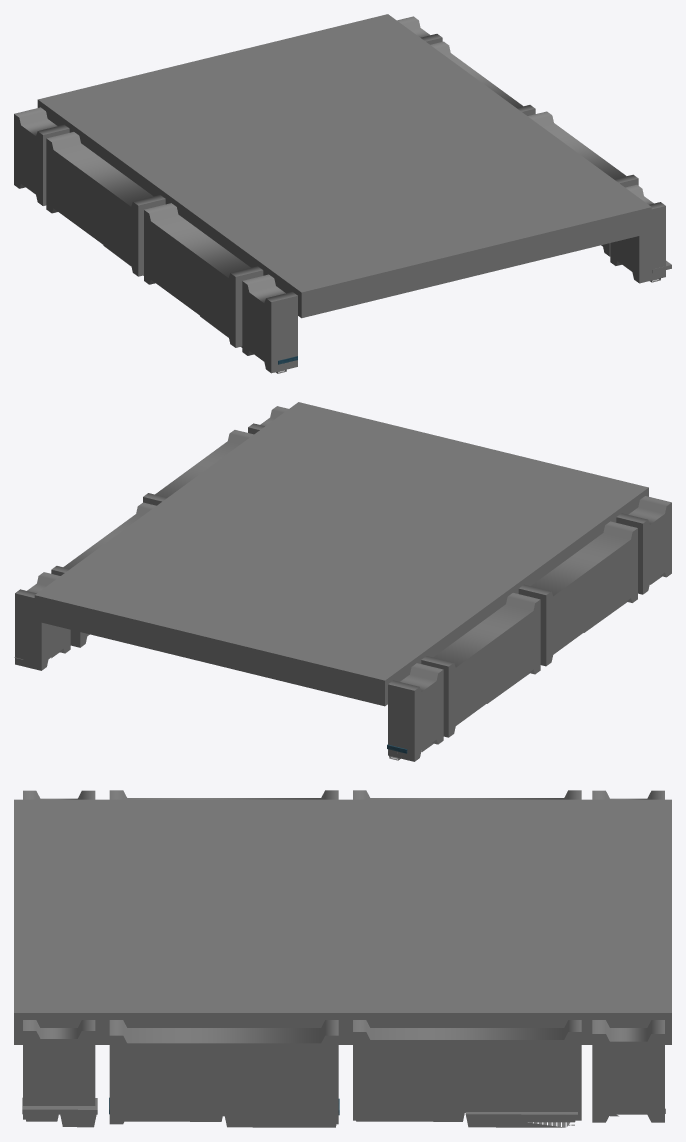
File: PontInterneHautBas.fbx
3 renders of one model, top to bottom at view 1: azimuth 30°, elevation 25°; view 2: azimuth 150°, elevation 25°; view 3: azimuth 270°, elevation 25°, orthographic. The views are drawn at different scales.
Parts seen in each view (by area): view 1: viga_hor118; view 2: viga_hor118; view 3: viga_hor118.
Part boxes in pixels (<box>): viga_hor118: <box>14,14,671,373</box>; viga_hor118: <box>14,402,671,761</box>; viga_hor118: <box>14,790,671,1127</box>.
Bounding box in the file's own units: 3.51 × 0.6686 × 3.98.
